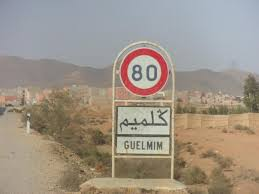Speed_limit_80km: (119, 48, 170, 96)
